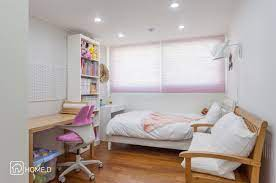Chair: (182, 104, 276, 183), (53, 105, 108, 180)
Table: (101, 98, 235, 153)
